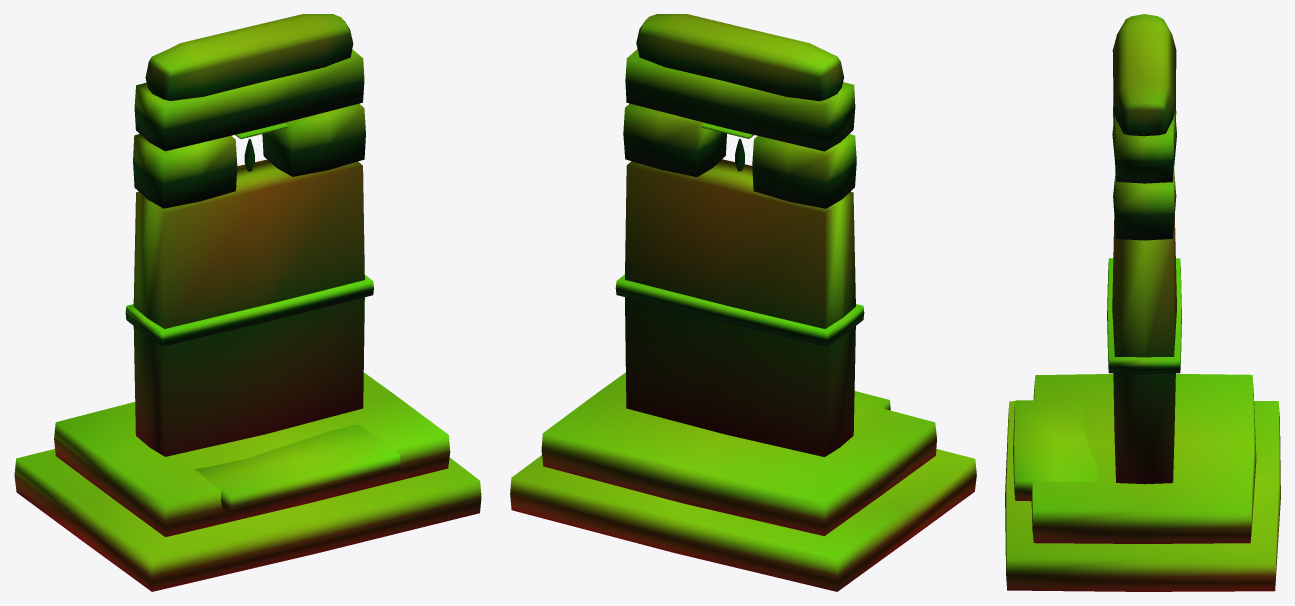
File: grave_stele_a.glb
3 renders of one model, left to right at view 1: azimuth 30°, elevation 25°; view 2: azimuth 150°, elevation 25°; view 3: azimuth 270°, elevation 25°, orthographic.
Visible parts, largest first — view 1: grave_stele_a; view 2: grave_stele_a; view 3: grave_stele_a.
Boxes of the visible parts, box(x1,y1,x2,y2) form: grave_stele_a: box(14, 14, 481, 591); grave_stele_a: box(510, 14, 976, 591); grave_stele_a: box(1005, 14, 1280, 591).
Size of what is drawn, in the model's own units: 0.8757 by 1.2 by 0.6402.
